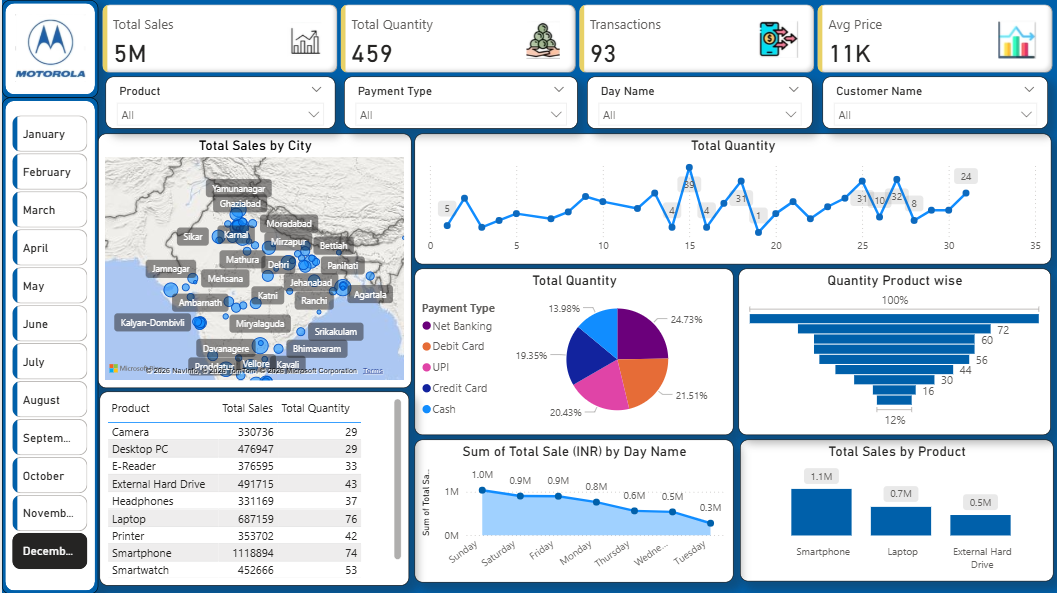

This screenshot's page, from the dashboard's own definition file:
{"tool":"powerbi","page":{"name":"Page 1","canvas":[1280,720],"ordinal":0},"visuals":[{"type":"shape","box":[0,0,116.7,118.3],"z":0},{"type":"image","box":[10,11.7,95,95],"z":1000},{"type":"shape","box":[0,118.3,116.7,601.7],"z":1001},{"type":"advancedSlicerVisual","fields":{"Values":["Sales_Data.Sales Date.Variation.Date Hierarchy.Month"]},"box":[6.7,135,101.7,570],"z":1002},{"type":"cardVisual","fields":{"Data":["Sales_Data.Total Sales","Sales_Data.Total Quantity","Sales_Data.Transactions","Sales_Data.Avg Price"]},"box":[116.7,0,1163.3,93.3],"z":1003},{"type":"map","fields":{"Category":["Sales_Data.City"],"Size":["Sales_Data.Total Sales"]},"box":[116.7,161.7,380,308.3],"z":1004},{"type":"lineChart","title":"Total Quantity","fields":{"Category":["Sales_Data.Sales Date.Variation.Date Hierarchy.Month","Sales_Data.Sales Date.Variation.Date Hierarchy.Day"],"Y":["Sales_Data.Total Quantity"]},"box":[500,161.7,771.7,158.3],"z":1005},{"type":"clusteredColumnChart","title":"Total Sales by Product","fields":{"Y":["Sum(Sales_Data.Total Sale (INR))"],"Category":["Sales_Data.Product"]},"box":[895,533.3,380,171.7],"z":1006},{"type":"pieChart","title":"Total Quantity","fields":{"Category":["Sales_Data.Payment Type"],"Y":["Sales_Data.Transactions"]},"box":[500,325,386.7,201.7],"z":1007},{"type":"funnel","title":"Quantity Product wise","fields":{"Category":["Sales_Data.Quantity"],"Y":["Sum(Sales_Data.Quantity)"]},"box":[893.3,325,378.3,201.7],"z":1008},{"type":"areaChart","fields":{"Category":["Sales_Data.Day Name"],"Y":["Sum(Sales_Data.Total Sale (INR))"]},"box":[500,533.3,386.7,173.3],"z":1009},{"type":"tableEx","title":"Total Quantity","fields":{"Values":["Sales_Data.Product","Sales_Data.Total Sales","Sales_Data.Total Quantity"]},"box":[118.3,475,375,235],"z":1010},{"type":"slicer","fields":{"Values":["Sales_Data.Product"]},"box":[125,93.3,278.3,63.3],"z":1011},{"type":"slicer","fields":{"Values":["Sales_Data.Payment Type"]},"box":[415,93.3,283.3,63.3],"z":1012},{"type":"slicer","fields":{"Values":["Sales_Data.Day Name"]},"box":[708.3,93.3,273.3,63.3],"z":1013},{"type":"slicer","fields":{"Values":["Sales_Data.Customer Name"]},"box":[995,93.3,273.3,63.3],"z":1014}]}

Visuals, with their boxes in screenshot pixels (x1, y1, x2, y2), scaled from the page's 1280x720 canvas onto the 1057x593 screenshot:
shape: x1=0, y1=0, x2=96, y2=97
image: x1=8, y1=10, x2=87, y2=88
shape: x1=0, y1=97, x2=96, y2=592
advancedSlicerVisual - Sales_Data.Sales Date.Variation.Date Hierarchy.Month: x1=6, y1=111, x2=90, y2=581
cardVisual - Sales_Data.Total Sales x Sales_Data.Total Quantity: x1=96, y1=0, x2=1056, y2=77
map - Sales_Data.City x Sales_Data.Total Sales: x1=96, y1=133, x2=410, y2=387
"Total Quantity" lineChart: x1=413, y1=133, x2=1050, y2=264
"Total Sales by Product" clusteredColumnChart: x1=739, y1=439, x2=1053, y2=581
"Total Quantity" pieChart: x1=413, y1=268, x2=732, y2=434
"Quantity Product wise" funnel: x1=738, y1=268, x2=1050, y2=434
areaChart - Sales_Data.Day Name x Sum(Sales_Data.Total Sale (INR)): x1=413, y1=439, x2=732, y2=582
"Total Quantity" tableEx: x1=98, y1=391, x2=407, y2=585
slicer - Sales_Data.Product: x1=103, y1=77, x2=333, y2=129
slicer - Sales_Data.Payment Type: x1=343, y1=77, x2=577, y2=129
slicer - Sales_Data.Day Name: x1=585, y1=77, x2=811, y2=129
slicer - Sales_Data.Customer Name: x1=822, y1=77, x2=1047, y2=129
